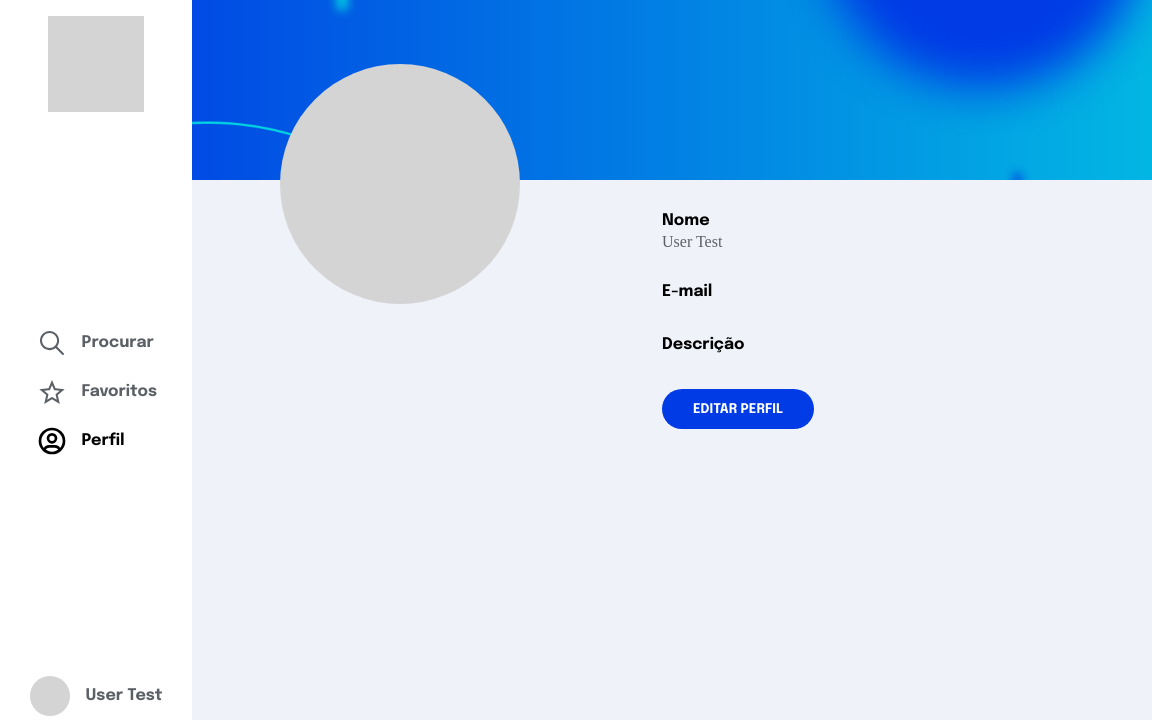
Test: Testando os links de navegação no cabeçalho › Testando se a navegação entre a página de exibição do perfil e a página de pesquisa ocorre corretamente
The width and height of the screenshot is (1152, 720).
What coordinates should you click on to do the following:
click the link with test id "link-to-search"
I would click on:
 (96, 342)
Its box is [36,318,156,367].
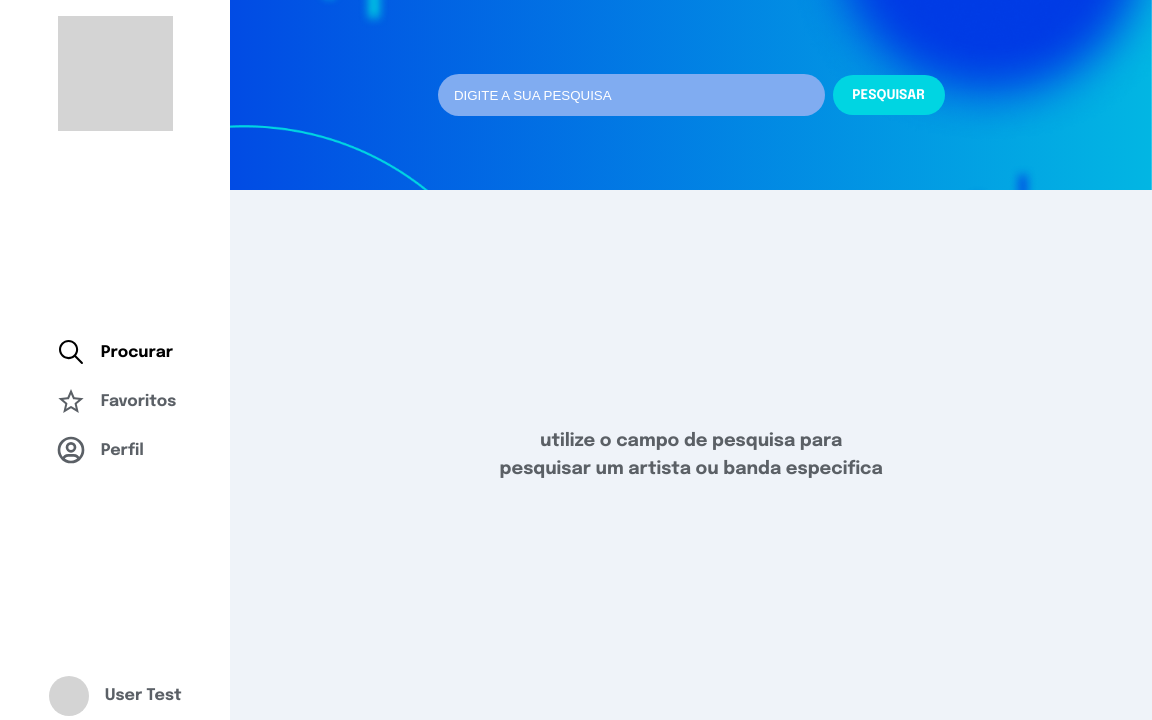
expect the element with test id "page-search" is shown: met
